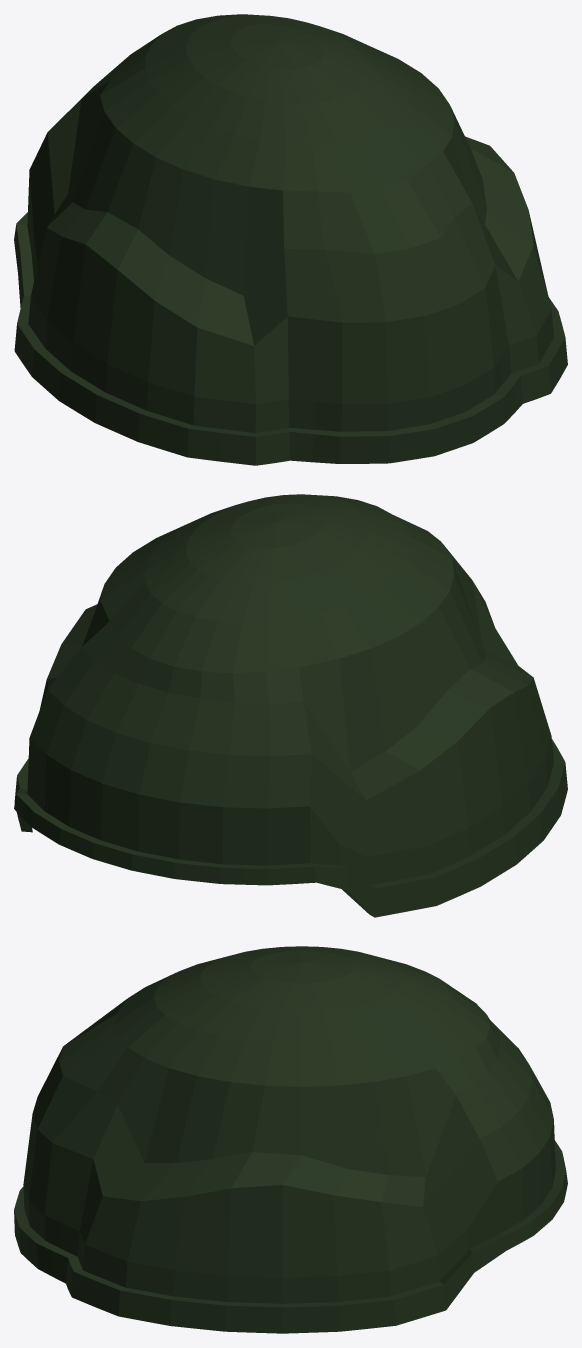
Rendered from helmet.glb.
3 renders of one model, top to bottom at view 1: azimuth 30°, elevation 25°; view 2: azimuth 150°, elevation 25°; view 3: azimuth 270°, elevation 25°, orthographic. The views are drawn at different scales.
Parts seen in each view (by area): view 1: Sphere; view 2: Sphere; view 3: Sphere.
Boxes of the visible parts, x1,y1,x2,y2 form: Sphere: (14,14,567,465); Sphere: (14,494,567,917); Sphere: (14,946,567,1333).
Size of the model in its own units: 1.69 by 1.05 by 1.94.
